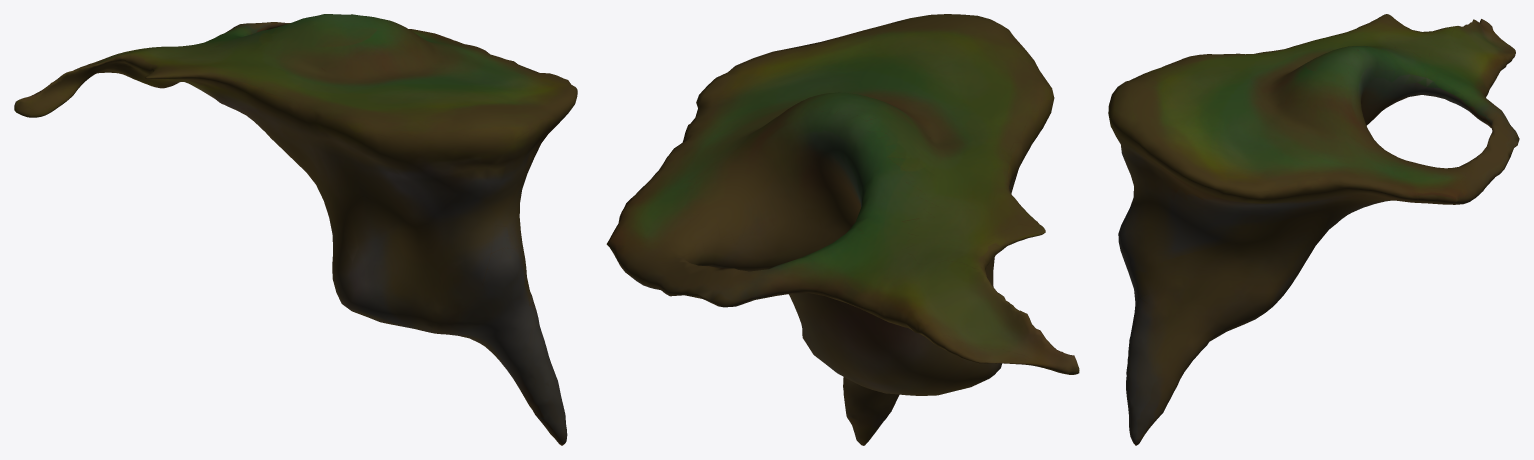
File: mediumIsland1.fbx
The picture shows the model from 3 angles, left to right: view 1: azimuth 30°, elevation 25°; view 2: azimuth 150°, elevation 25°; view 3: azimuth 270°, elevation 25°; orthographic projection. The views are drawn at different scales.
Visible parts, largest first — view 1: Icosphere; view 2: Icosphere; view 3: Icosphere.
Part boxes in pixels (<box>): Icosphere: <box>14,14,577,445</box>; Icosphere: <box>606,14,1079,445</box>; Icosphere: <box>1108,14,1519,445</box>.
Bounding box in the file's own units: 22372 × 18966 × 20693.
